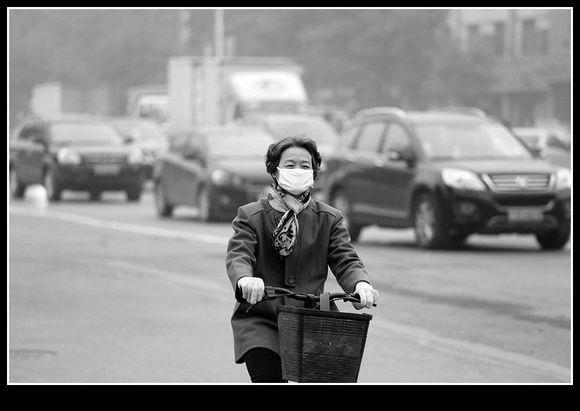OK: (279, 153, 319, 193)
